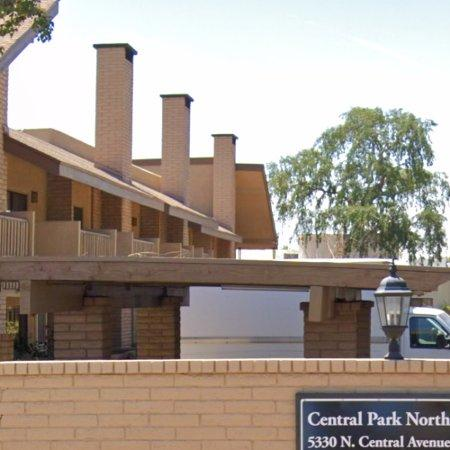chimneys: (94, 43, 137, 180), (161, 94, 193, 204), (213, 134, 238, 231)
